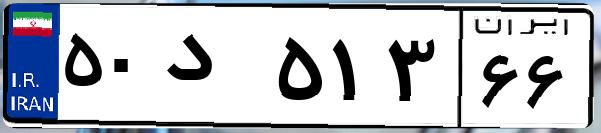0: (110, 28, 158, 98)
1: (330, 28, 385, 110)
3: (385, 28, 445, 110)
5: (270, 28, 330, 110), (57, 26, 110, 100)
6: (475, 38, 525, 113), (525, 38, 570, 115)
د: (158, 20, 270, 120)
